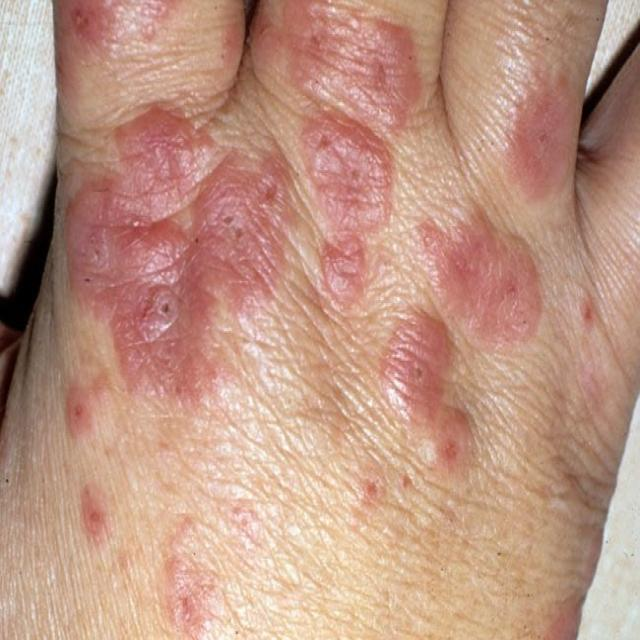Erythema multiforme -EM-: (84, 126, 326, 470), (354, 132, 546, 515)
